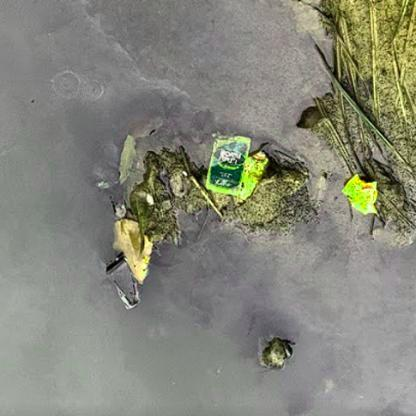Trash: (203, 124, 268, 200), (340, 171, 378, 218)
